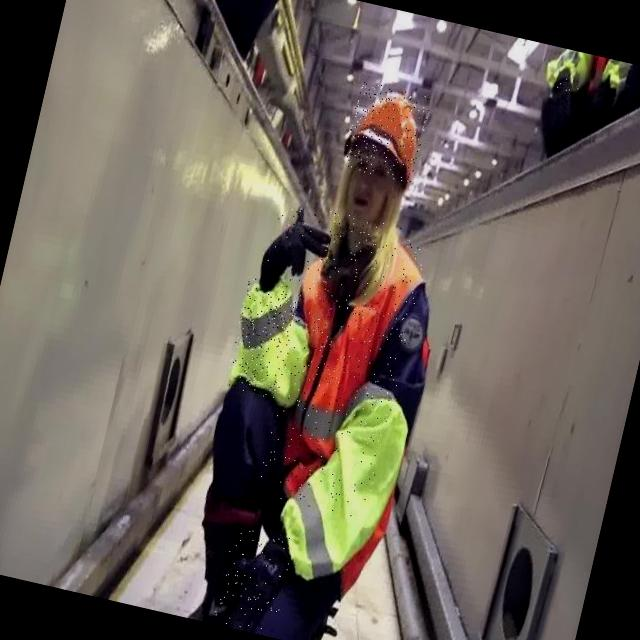helmet: (341, 80, 432, 183)
vest: (255, 208, 432, 520), (223, 276, 324, 404)
